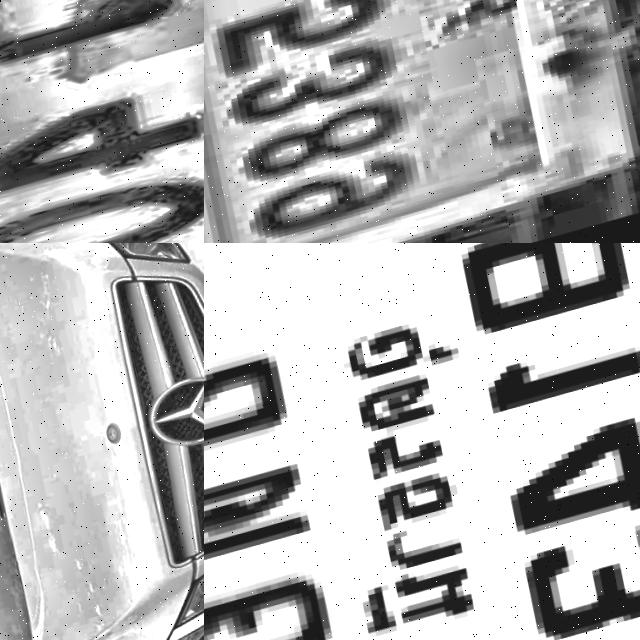license-plate: (204, 243, 640, 640), (204, 0, 640, 243), (0, 0, 204, 243)
